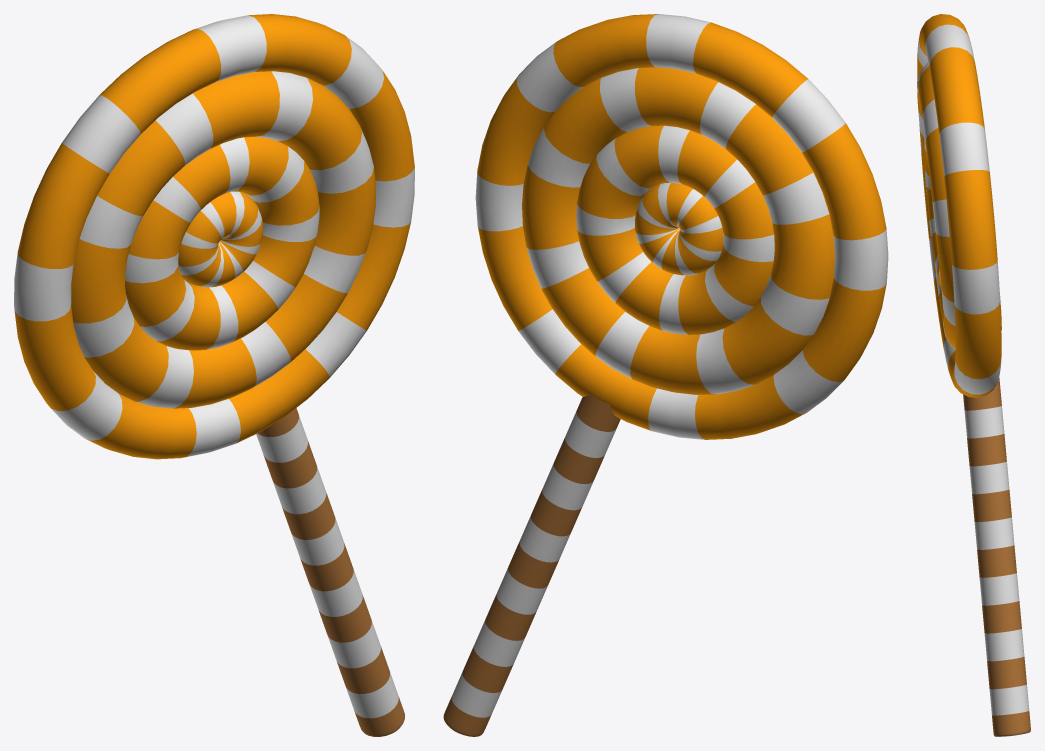
File: spinyCandy.glb
The picture shows the model from 3 angles, left to right: view 1: azimuth 30°, elevation 25°; view 2: azimuth 150°, elevation 25°; view 3: azimuth 270°, elevation 25°; orthographic projection. The views are drawn at different scales.
Visible parts, largest first — view 1: Torus.002; view 2: Torus.002; view 3: Torus.002.
Part boxes in pixels (box(x1,y1,x2,y2)): Torus.002: box(14, 14, 414, 736); Torus.002: box(443, 14, 888, 736); Torus.002: box(917, 14, 1030, 736).
Bounding box in the file's own units: 1.15 × 2.01 × 0.3295.
